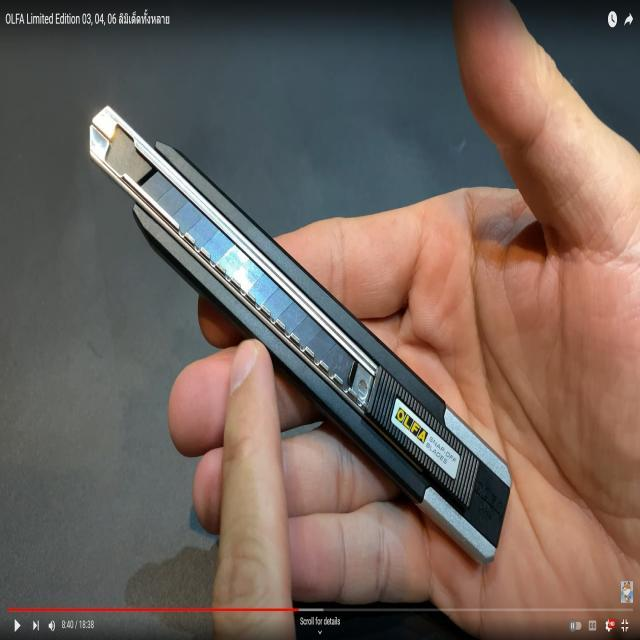cutter: (76, 79, 542, 592)
